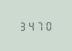four: (27, 20, 35, 31)
seven: (36, 19, 44, 30)
three: (18, 20, 26, 31)
zero: (45, 19, 53, 30)
